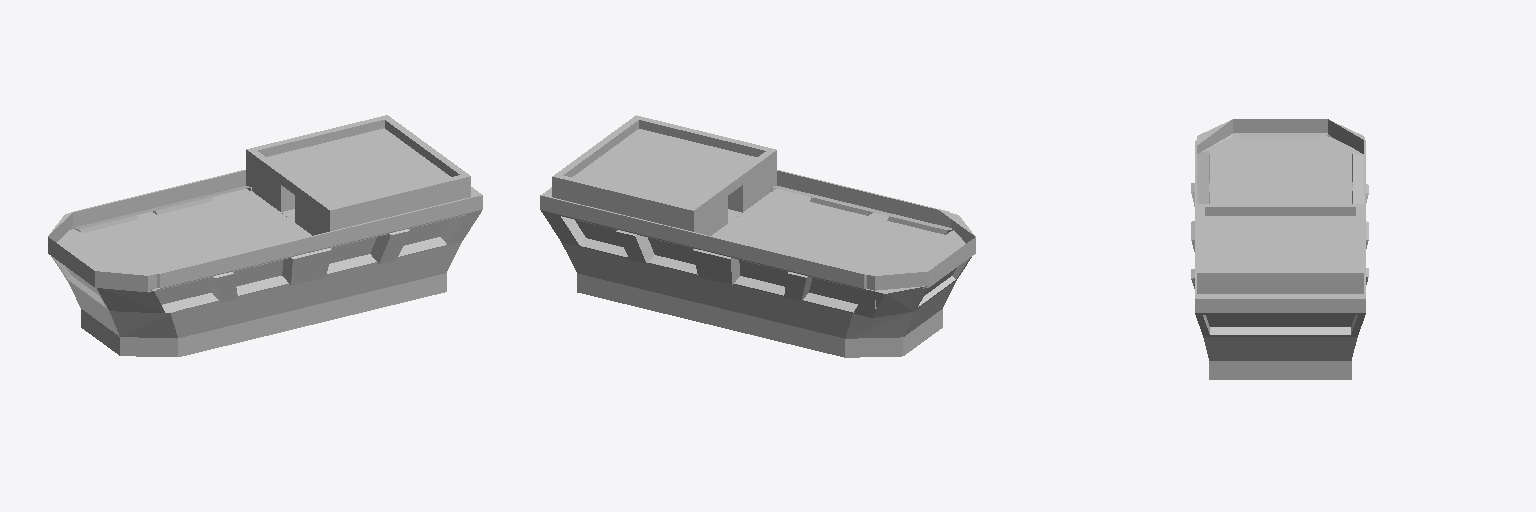
Rendered from Boat.obj.
3 renders of one model, left to right at view 1: azimuth 30°, elevation 25°; view 2: azimuth 150°, elevation 25°; view 3: azimuth 270°, elevation 25°, orthographic.
Parts seen in each view (by area): view 1: Cube_Cube.001; view 2: Cube_Cube.001; view 3: Cube_Cube.001.
Boxes of the visible parts, x1=… form: Cube_Cube.001: x1=48, y1=115, x2=482, y2=356; Cube_Cube.001: x1=540, y1=115, x2=975, y2=357; Cube_Cube.001: x1=1191, y1=119, x2=1368, y2=379.
Size of the model in its own units: 71.56 by 25.18 by 29.81.